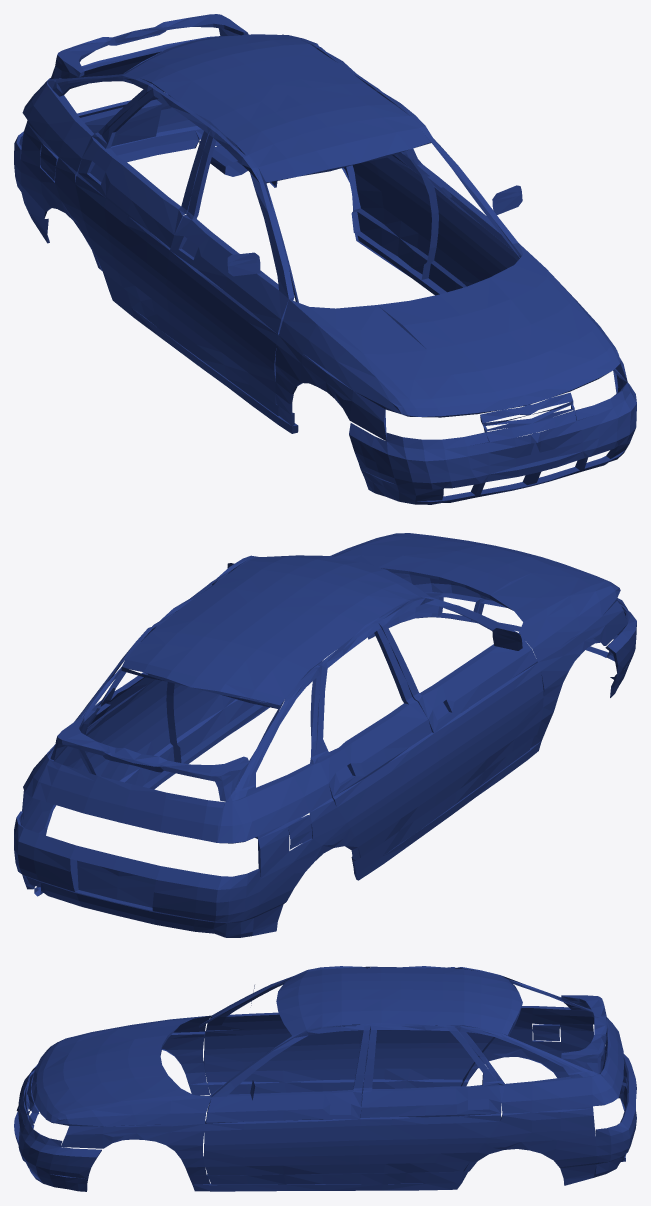
File: body.obj
3 views of the same model, one above another, from view 1: azimuth 30°, elevation 25°; view 2: azimuth 150°, elevation 25°; view 3: azimuth 270°, elevation 25° (orthographic). The views are drawn at different scales.
Visible parts, largest first — view 1: CampingHatchback_body; view 2: CampingHatchback_body; view 3: CampingHatchback_body.
Part boxes in pixels (x1,y1,x2,y2): CampingHatchback_body: [14, 14, 636, 504]; CampingHatchback_body: [14, 533, 636, 937]; CampingHatchback_body: [14, 966, 636, 1191].
Bounding box in the file's own units: 1.66 × 1.18 × 4.17.
